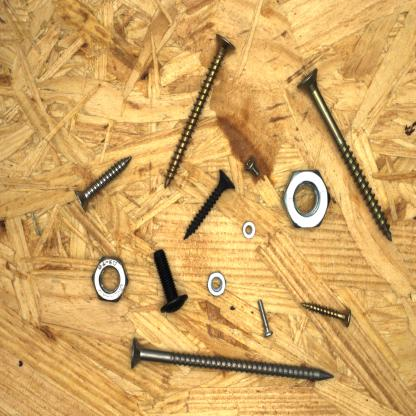screw: (294, 64, 394, 245), (164, 27, 238, 190), (129, 335, 335, 383), (181, 166, 237, 242), (72, 153, 134, 213), (151, 245, 189, 316), (299, 300, 353, 329), (256, 298, 274, 340), (242, 154, 262, 178)
